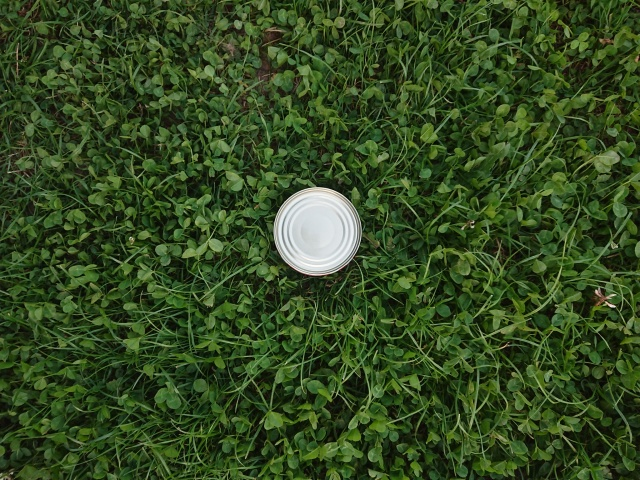Podravka Luncheon Meat 150g: (269, 184, 365, 278)
